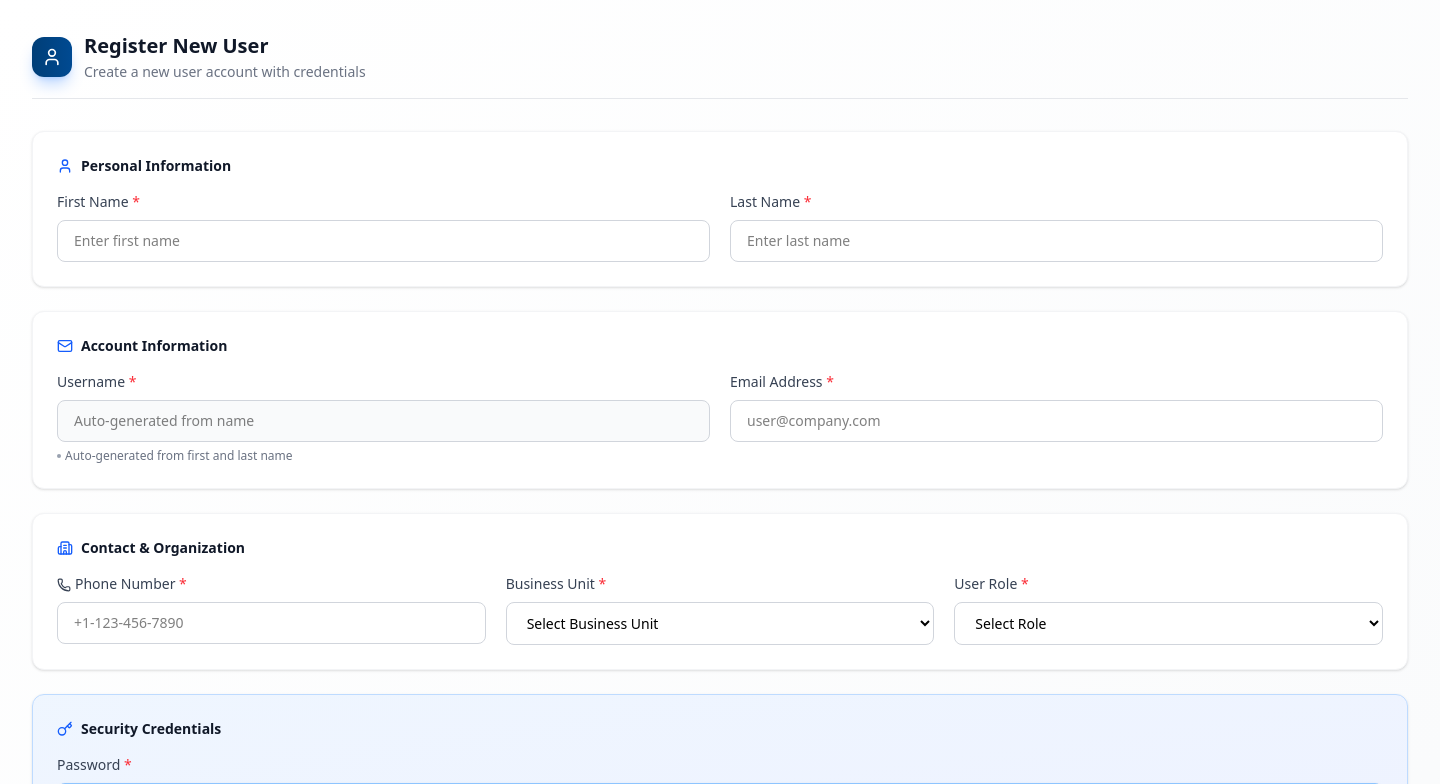
UserForm › auto-generates username from first and last name
This screenshot has width=1440, height=784.
Type "John" into the field with placeholder "Enter first name" at {"x": 384, "y": 241}, box [57,220,710,262]
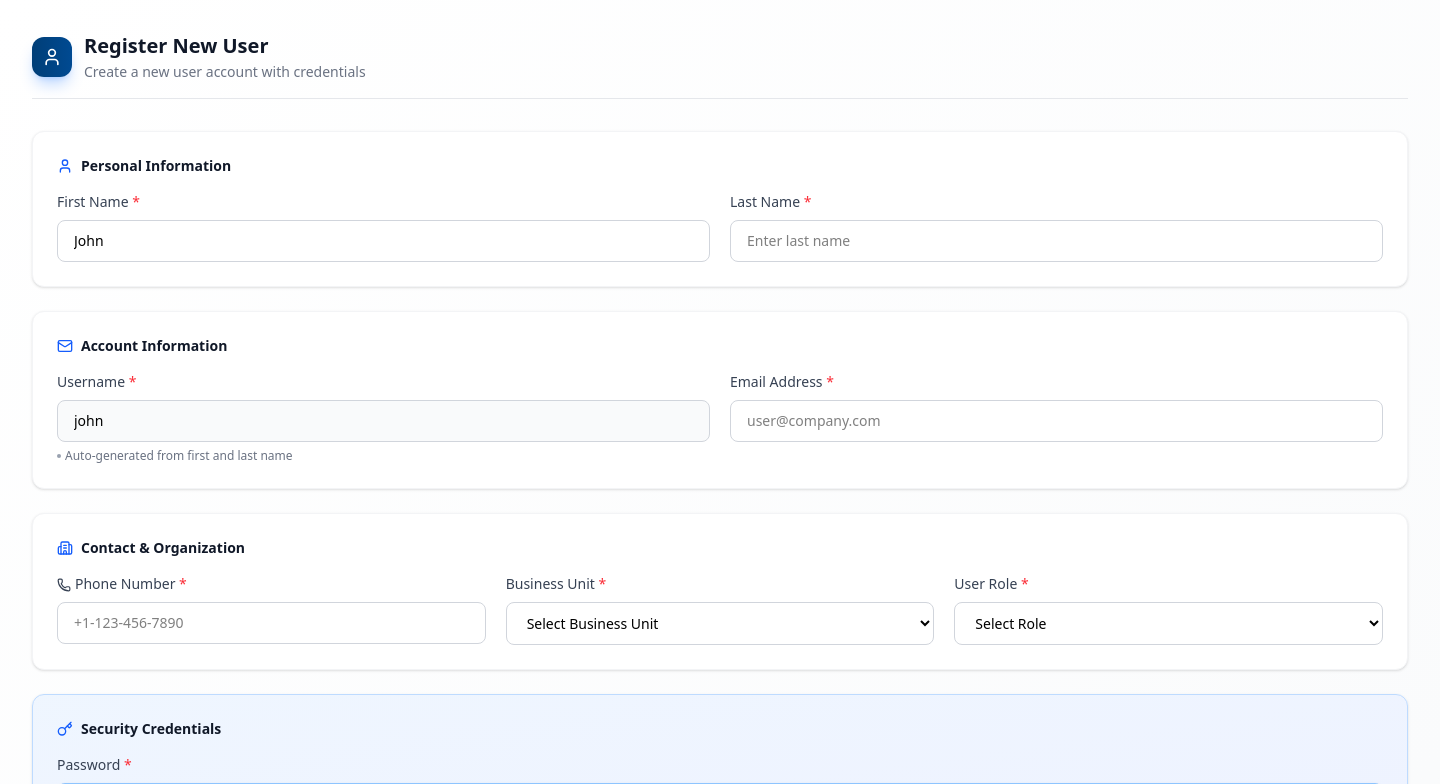
Type "Doe" into the field with placeholder "Enter last name" at {"x": 1056, "y": 241}, box [730,220,1383,262]
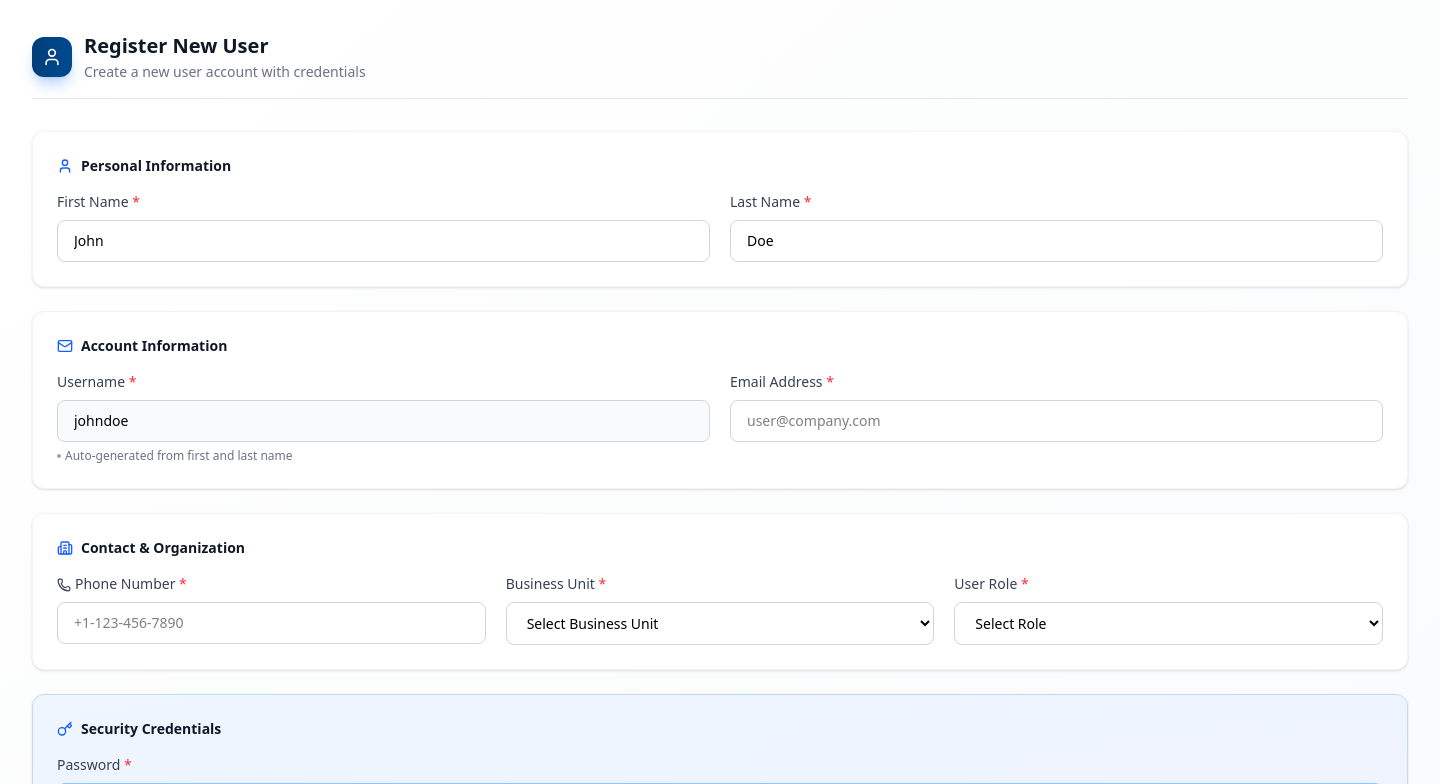
Expected: the field with placeholder "Auto-generated from name" holds "johndoe", [57,400,710,442]
